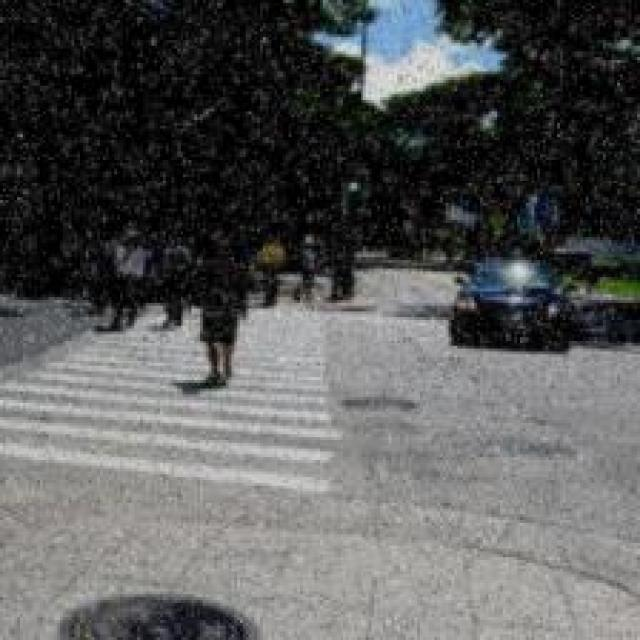crosswalk: (0, 282, 380, 486)
